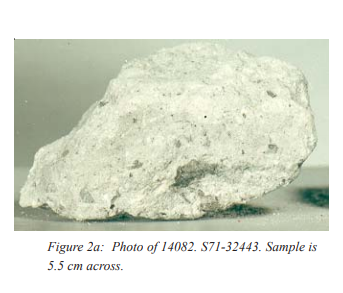Breccia: (11, 37, 320, 228), (114, 73, 272, 181), (63, 120, 258, 197)
